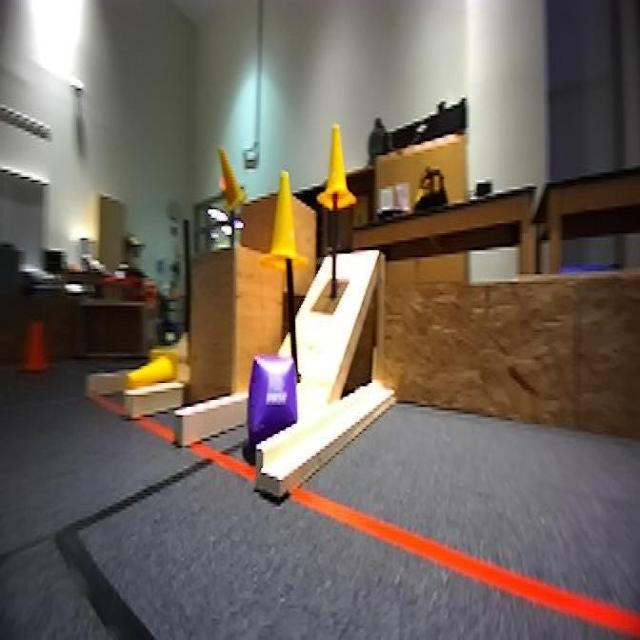frc_cone: (264, 174, 306, 274), (320, 121, 359, 213), (126, 341, 182, 386), (217, 143, 249, 214)
frc_cube: (245, 346, 302, 444)
